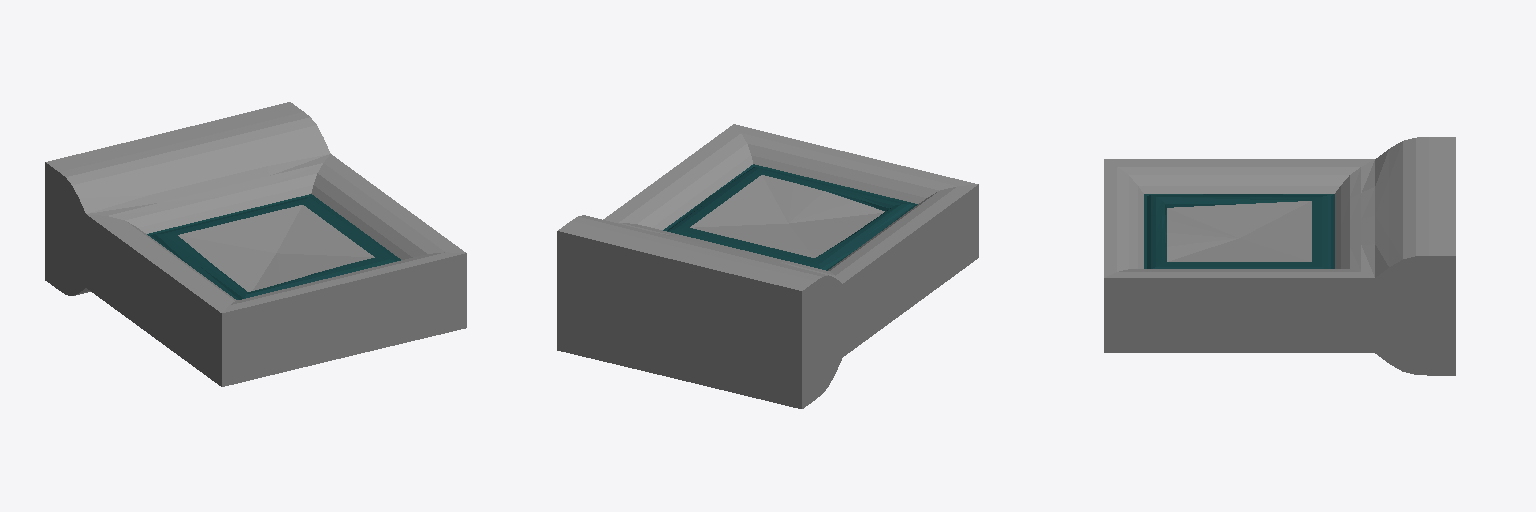
Rendered from Short Wall2.obj.
3 renders of one model, left to right at view 1: azimuth 30°, elevation 25°; view 2: azimuth 150°, elevation 25°; view 3: azimuth 270°, elevation 25°, orthographic.
Parts seen in each view (by area): view 1: Short Wall2; view 2: Short Wall2; view 3: Short Wall2.
Part boxes in pixels (bbox=[...]): Short Wall2: bbox=[45, 102, 466, 386]; Short Wall2: bbox=[557, 124, 978, 408]; Short Wall2: bbox=[1104, 137, 1455, 375].
Size of the model in its own units: 0.04 by 0.0187 by 0.0499.